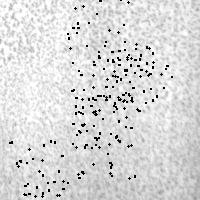pitted_surface: (1, 1, 200, 199), (93, 43, 152, 102), (71, 89, 130, 147), (114, 52, 171, 110), (9, 140, 67, 195), (76, 125, 134, 177), (72, 51, 126, 106), (67, 0, 127, 47)
